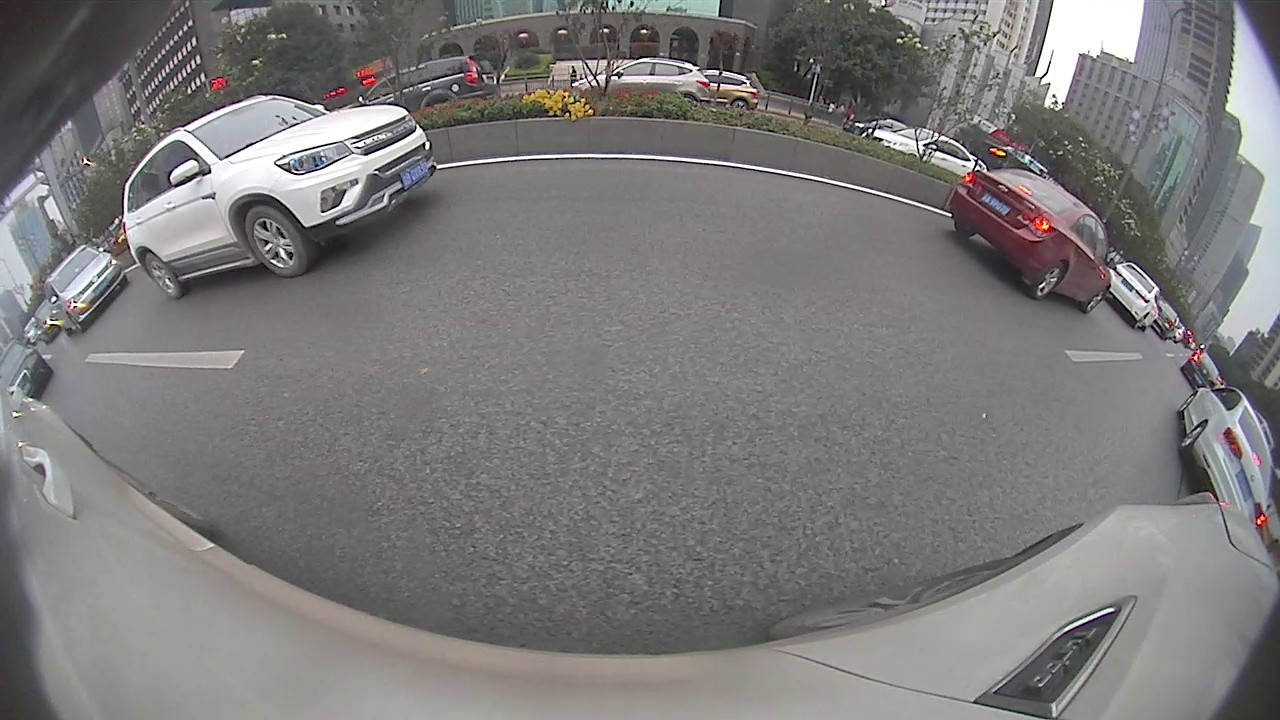car: (120, 94, 438, 299), (948, 167, 1117, 316), (1175, 380, 1273, 520), (43, 245, 128, 338), (569, 56, 710, 103), (863, 125, 986, 176), (1108, 260, 1165, 333), (1, 340, 53, 404)
front: (243, 204, 305, 276)
rear: (141, 251, 184, 299), (1030, 262, 1066, 301)
